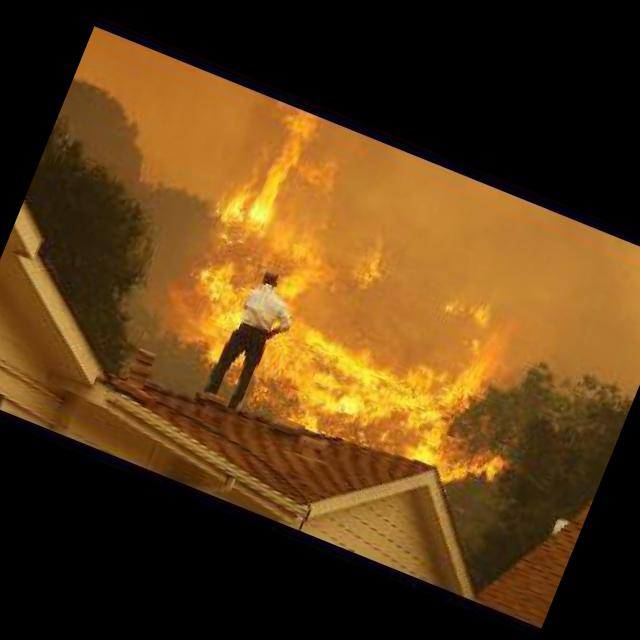fire: (153, 96, 596, 498)
